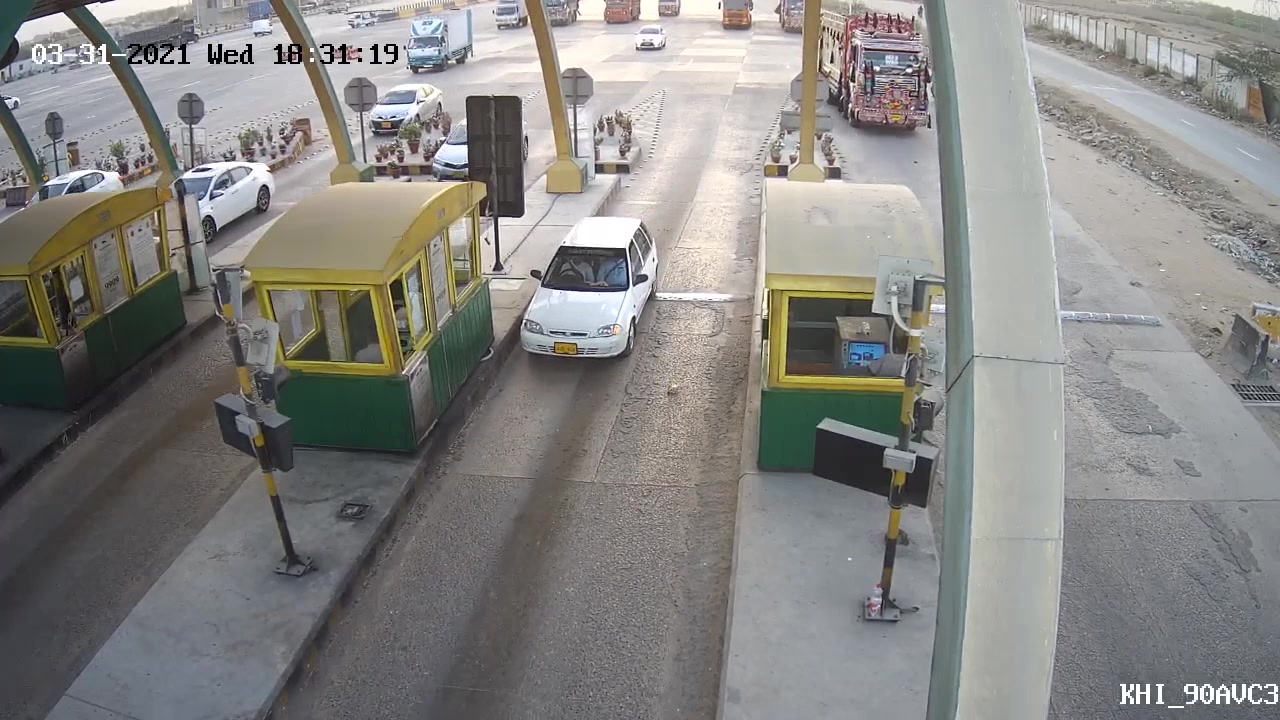F1: (514, 213, 663, 374)
